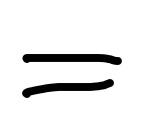eqv: (22, 53, 122, 98)
